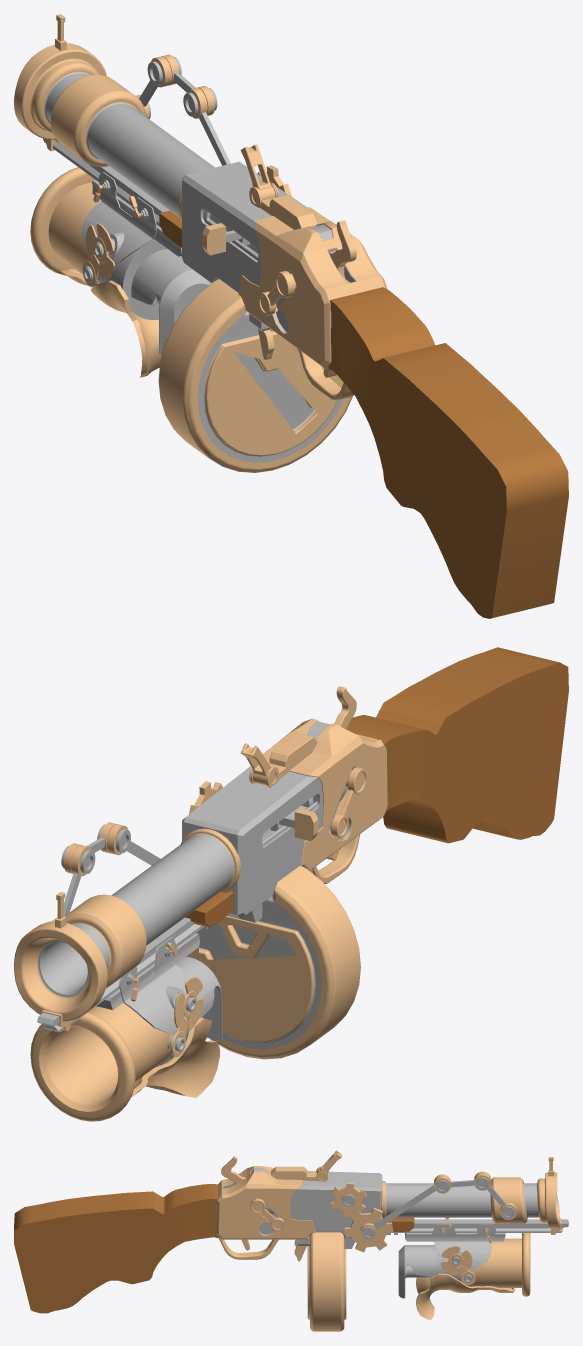
The model's file is PPSH_exp_plag.fbx.
3 renders of one model, top to bottom at view 1: azimuth 30°, elevation 25°; view 2: azimuth 150°, elevation 25°; view 3: azimuth 270°, elevation 25°, orthographic. The views are drawn at different scales.
Parts seen in each view (by area): view 1: Cube.048, Circle.002, Cylinder.040, Cube.051, Cube.047, 00.podstvol.cup.001, 02.podstvol.xvost.002, 01.podstvol.krepofcup.004, 04.podstvol.rykojatka.001, 01.podstvol.krepofcup.003, 00.krepl.005, Cylinder.048 (+7 smaller); view 2: Cube.048, Circle.002, Cylinder.040, 00.podstvol.cup.001, Cube.047, Cube.051, 04.podstvol.rykojatka.001, 01.podstvol.krepofcup.004, 02.podstvol.xvost.002, 00.krepl.005, Cylinder.048, Cube.052 (+9 smaller); view 3: Cube.048, Cylinder.040, Cube.051, Cube.047, Circle.002, 00.podstvol.cup.001, 01.podstvol.krepofcup.004, 00.krepl.005, 04.podstvol.rykojatka.001, 02.podstvol.xvost.002, Cylinder.050, Cylinder.041 (+10 smaller).
Boxes of the visible parts, x1,y1,x2,y2 form: Cube.048: [328, 287, 568, 618]; Circle.002: [158, 279, 352, 472]; Cylinder.040: [14, 43, 258, 260]; Cube.051: [238, 207, 387, 368]; Cube.047: [182, 161, 355, 333]; 00.podstvol.cup.001: [30, 167, 101, 284]; 02.podstvol.xvost.002: [131, 249, 211, 354]; 01.podstvol.krepofcup.004: [81, 172, 156, 264]; 04.podstvol.rykojatka.001: [61, 269, 161, 377]; 01.podstvol.krepofcup.003: [98, 239, 167, 319]; 00.krepl.005: [43, 138, 169, 226]; Cylinder.048: [147, 54, 217, 116]; Cube.048: [346, 647, 568, 843]; Circle.002: [186, 866, 360, 1059]; Cylinder.040: [14, 787, 347, 1021]; 00.podstvol.cup.001: [30, 1002, 175, 1121]; Cube.047: [182, 721, 354, 922]; Cube.051: [263, 718, 387, 870]; 04.podstvol.rykojatka.001: [131, 1017, 220, 1097]; 01.podstvol.krepofcup.004: [119, 936, 188, 1033]; 02.podstvol.xvost.002: [176, 957, 222, 1041]; 00.krepl.005: [37, 917, 204, 1032]; Cylinder.048: [61, 822, 130, 873]; Cube.052: [269, 733, 317, 780]; Cube.048: [14, 1183, 218, 1313]; Cylinder.040: [265, 1172, 559, 1228]; Cube.051: [216, 1166, 315, 1239]; Cube.047: [216, 1168, 382, 1248]; Circle.002: [307, 1232, 346, 1331]; 00.podstvol.cup.001: [466, 1233, 530, 1296]; 01.podstvol.krepofcup.004: [432, 1224, 495, 1271]; 00.krepl.005: [391, 1219, 568, 1232]; 04.podstvol.rykojatka.001: [416, 1273, 515, 1320]; 02.podstvol.xvost.002: [398, 1245, 436, 1298]; Cylinder.050: [344, 1208, 393, 1252]; Cylinder.041: [330, 1182, 366, 1217].
Size of the model in its own units: 0.1734 by 0.2889 by 0.8337.
